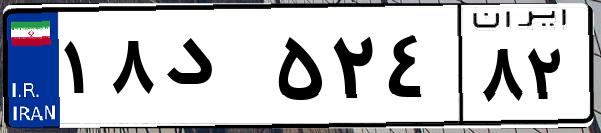1: (57, 26, 110, 100)
2: (330, 28, 385, 110), (525, 38, 570, 115)
4: (385, 28, 445, 110)
5: (270, 28, 330, 110)
8: (475, 38, 525, 113), (110, 28, 158, 98)
د: (158, 20, 270, 120)
